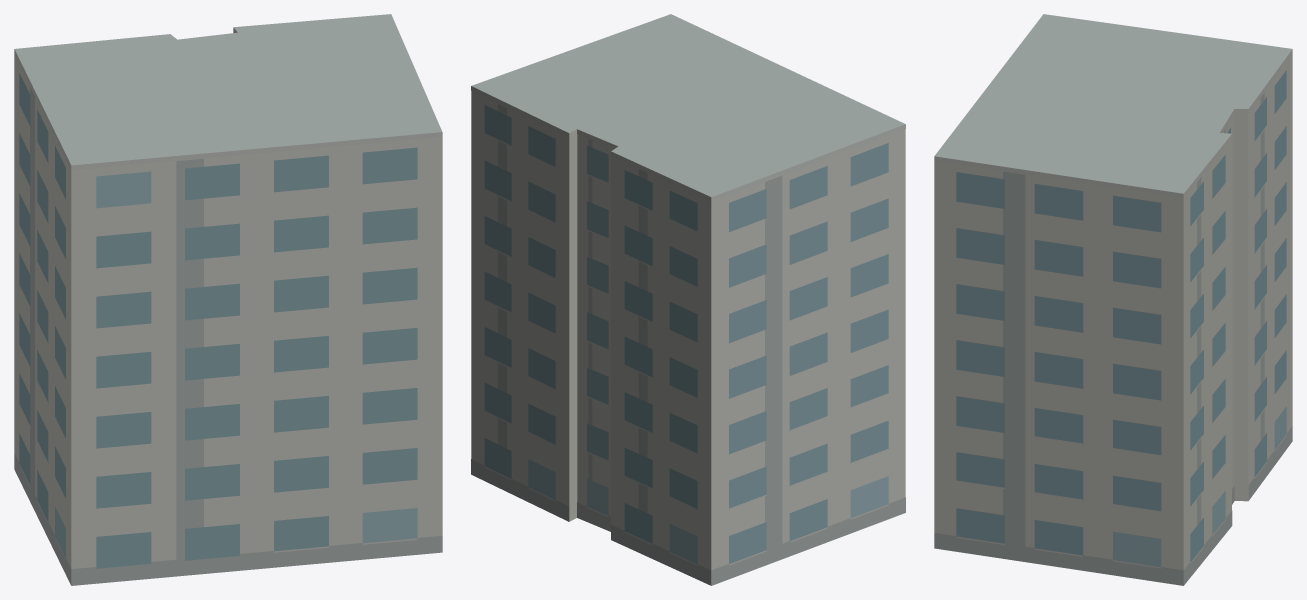
File: survey-upis-32884268.glb
3 renders of one model, left to right at view 1: azimuth 30°, elevation 25°; view 2: azimuth 150°, elevation 25°; view 3: azimuth 270°, elevation 25°, orthographic. The views are drawn at different scales.
Parts seen in each view (by area): view 1: survey-upis-32884268.tmp; view 2: survey-upis-32884268.tmp; view 3: survey-upis-32884268.tmp.
Boxes of the visible parts, x1,y1,x2,y2 form: survey-upis-32884268.tmp: (14, 14, 442, 585); survey-upis-32884268.tmp: (471, 14, 905, 585); survey-upis-32884268.tmp: (934, 14, 1292, 585).
Size of the model in its own units: 19.18 by 19.5 by 16.16.
